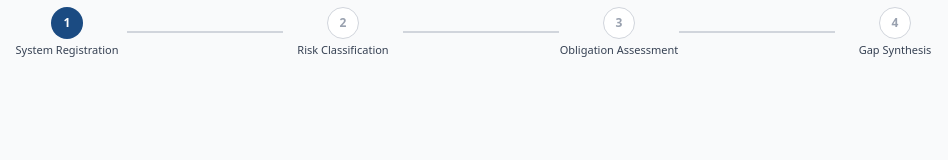
PhaseNav › shows a tooltip when a locked phase is clicked
Step 1. Click the button with test id "phase-step-classification" → (343, 23), box [327,7,359,39]
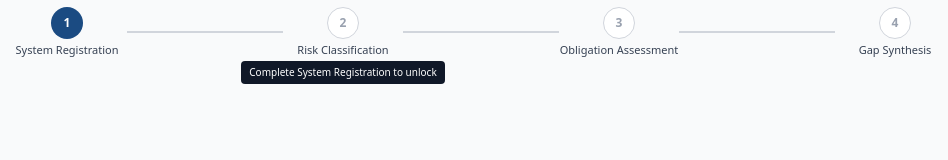
Now the text "Complete System Registration to unlock" is shown, box [241,61,445,84]
Now the text with test id "phase-tooltip-classification" reads "Complete System Registration to unlock", box [249,65,437,79]
